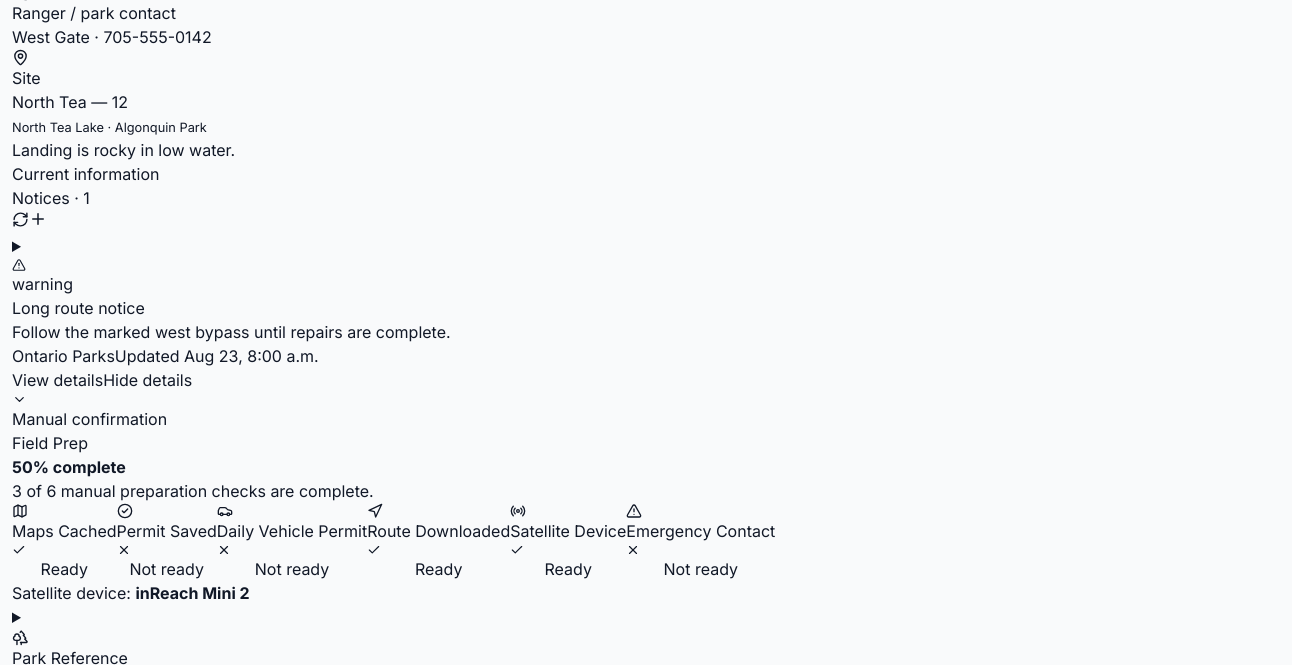
Test case: mobile Field composition › renders the readiness-first hierarchy with compact, expandable notices
The image size is (1292, 665).
(page scrolled)
Expected: the heading "Notices · 1" is shown, [12,188,90,208]
Expected: the text with class "mobile-field-notices__count" reads "· 1", [70,188,90,208]
Click the heading that starts with "warning".
click(231, 332)  # box [12,258,451,407]
(page scrolled)
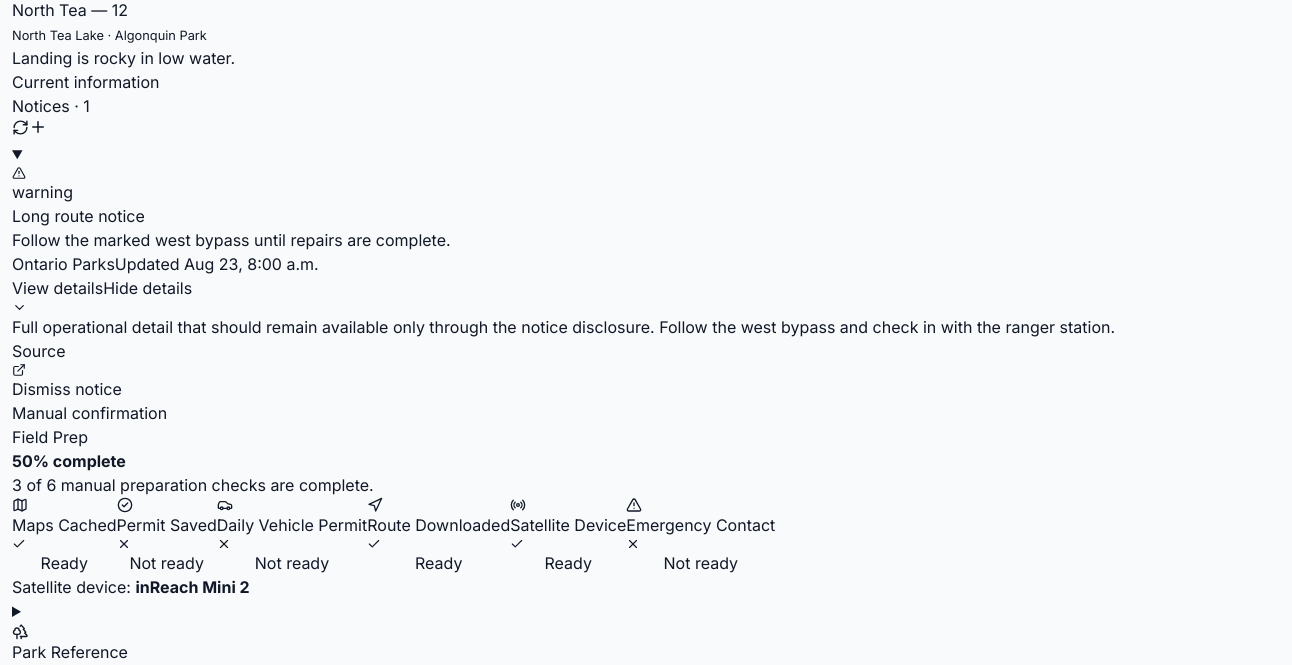
Expected: the heading "Field Prep" is shown, [12,427,88,447]
Expected: the text "Full operational detail" is shown, [12,317,1115,337]
